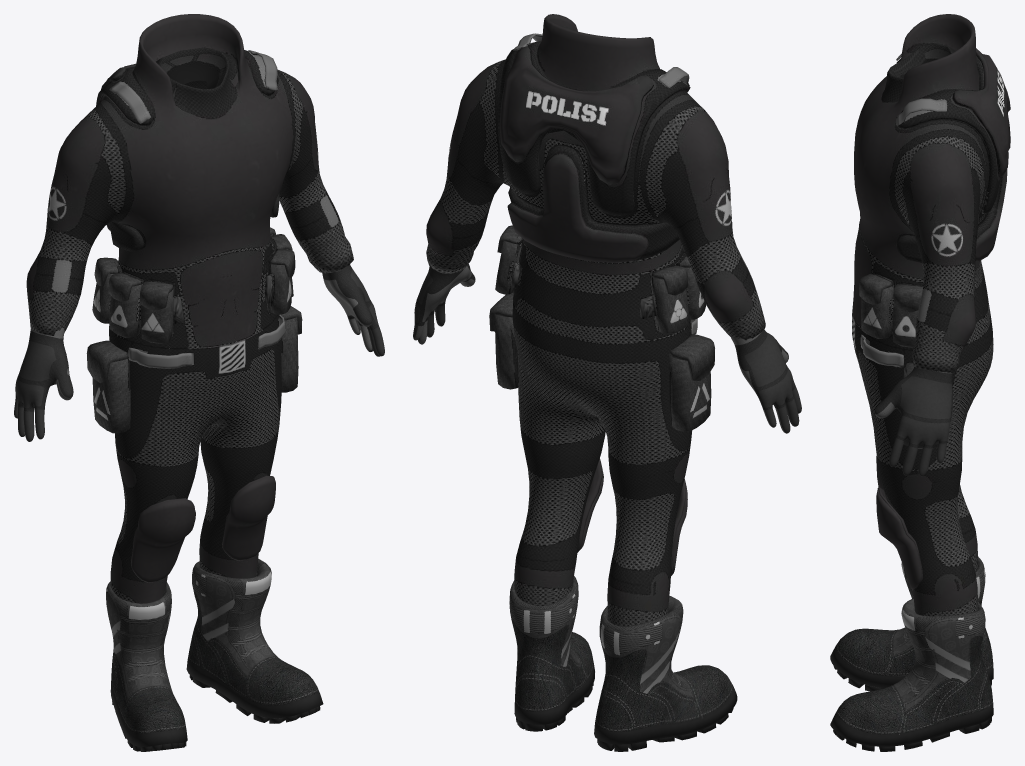
The picture shows the model from 3 angles, left to right: view 1: azimuth 30°, elevation 25°; view 2: azimuth 150°, elevation 25°; view 3: azimuth 270°, elevation 25°; orthographic projection. The views are drawn at different scales.
Parts seen in each view (by area): view 1: rzyasMilitarySuit_0; view 2: rzyasMilitarySuit_0; view 3: rzyasMilitarySuit_0.
Part boxes in pixels (x1,y1,x2,y2): rzyasMilitarySuit_0: [14, 14, 384, 751]; rzyasMilitarySuit_0: [413, 14, 801, 751]; rzyasMilitarySuit_0: [830, 14, 1010, 751].
Bounding box in the file's own units: 7.74 × 14.09 × 3.38.
Materials: 3 (3 with a texture image).
